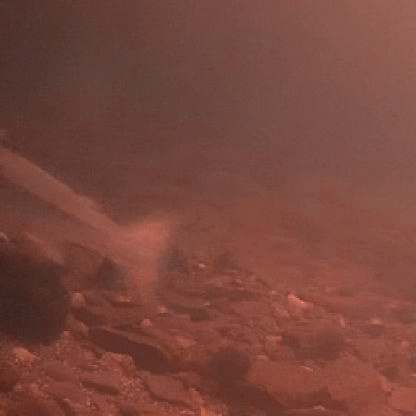salmon: (0, 127, 187, 314)
